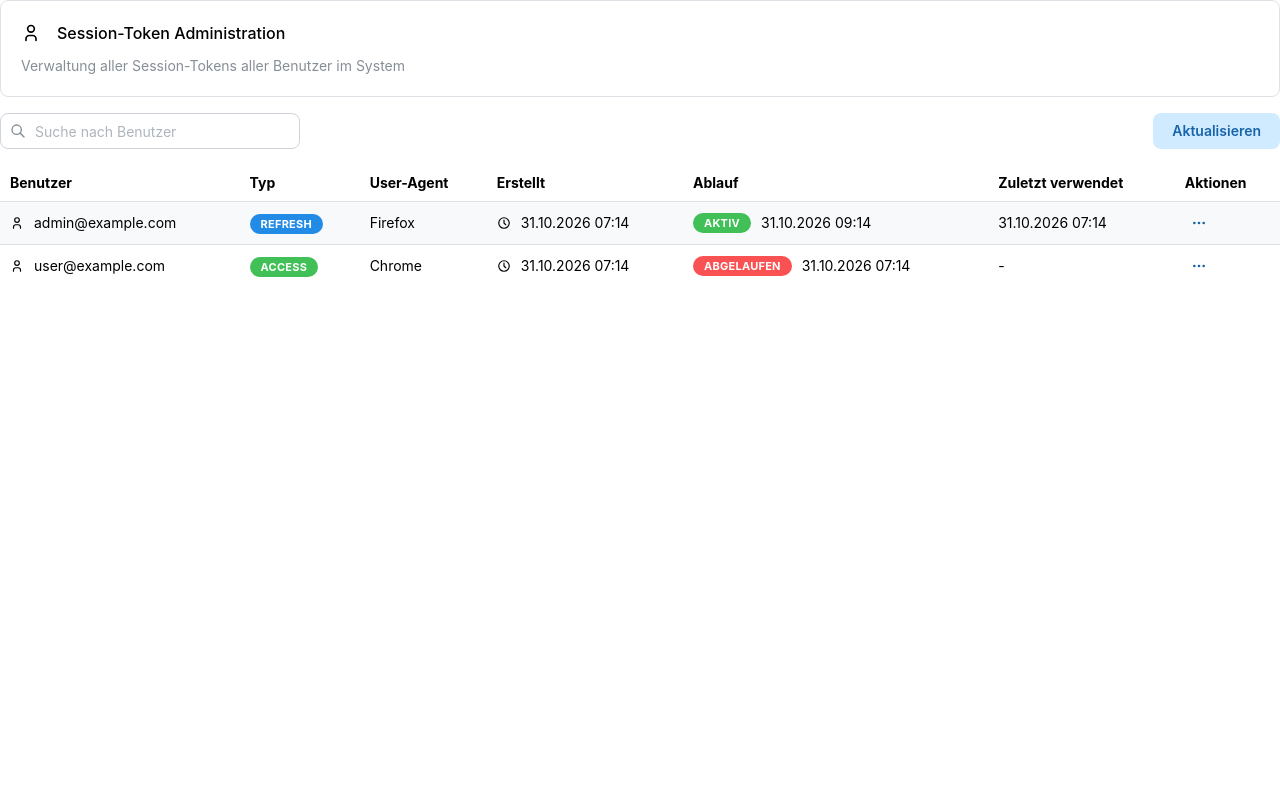
Test: SessionTokenAdminList › löscht ein Session-Token nach Bestätigung mit userId und tokenId
Expected: the text "admin@example.com" is shown, [34, 213, 176, 233]
Click the button without text in the row of "admin@example.com".
click(1199, 223)  # box [1185, 209, 1213, 237]
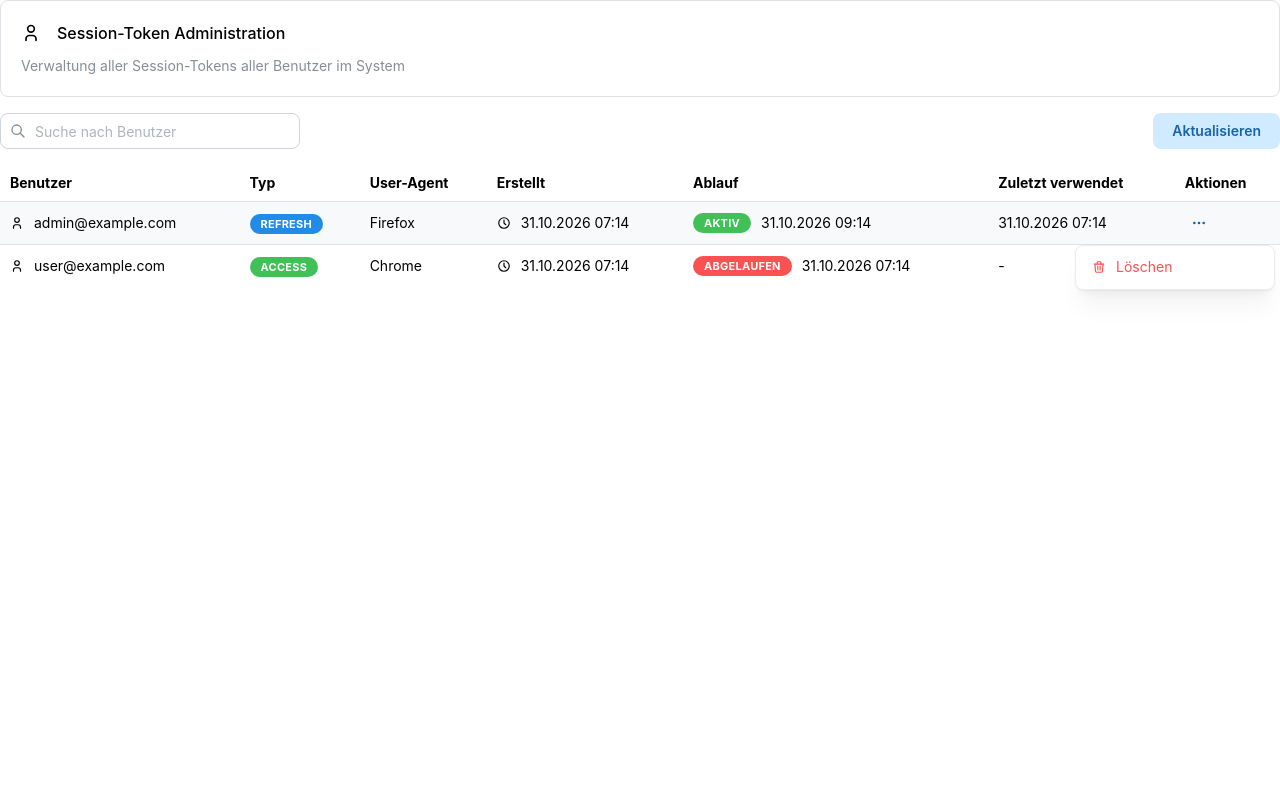
Click the menu item "Löschen".
click(1175, 267)  # box [1080, 250, 1270, 285]
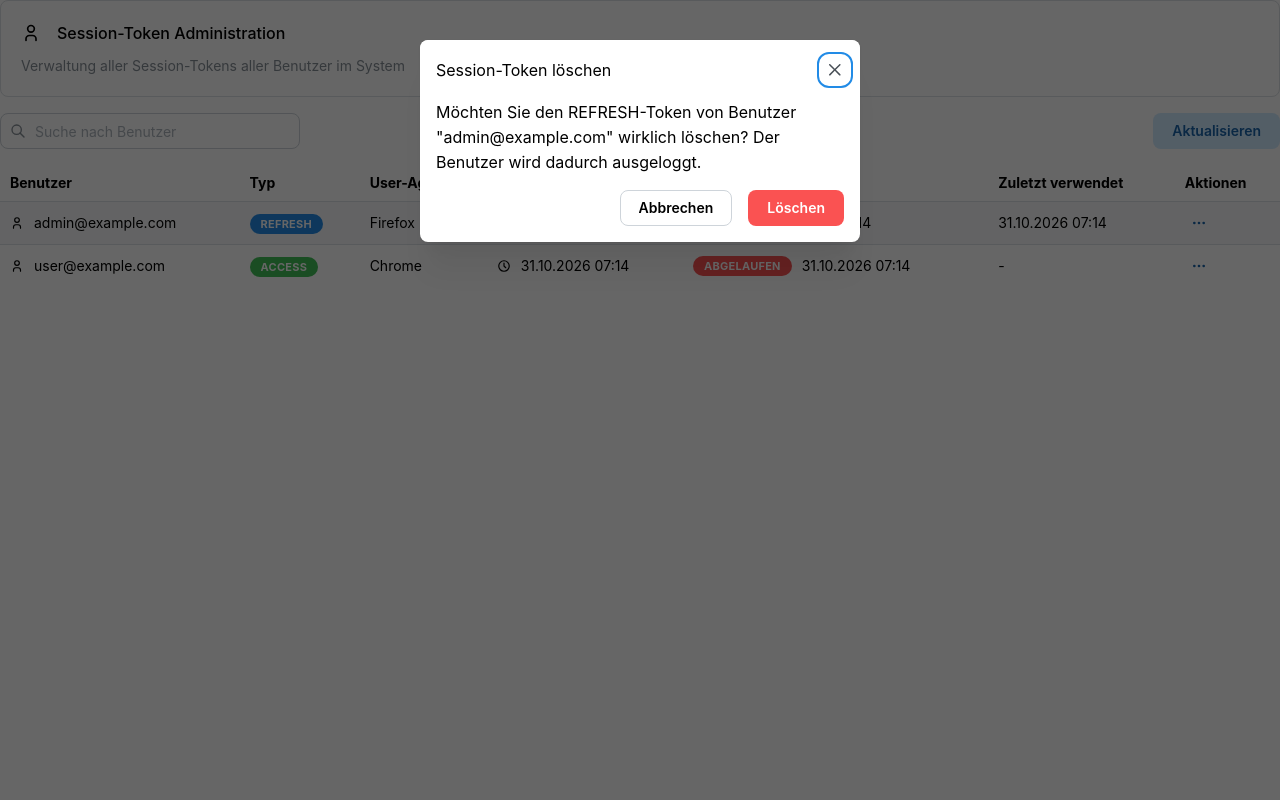
Click the button "Löschen".
click(796, 208)  # box [748, 190, 844, 226]
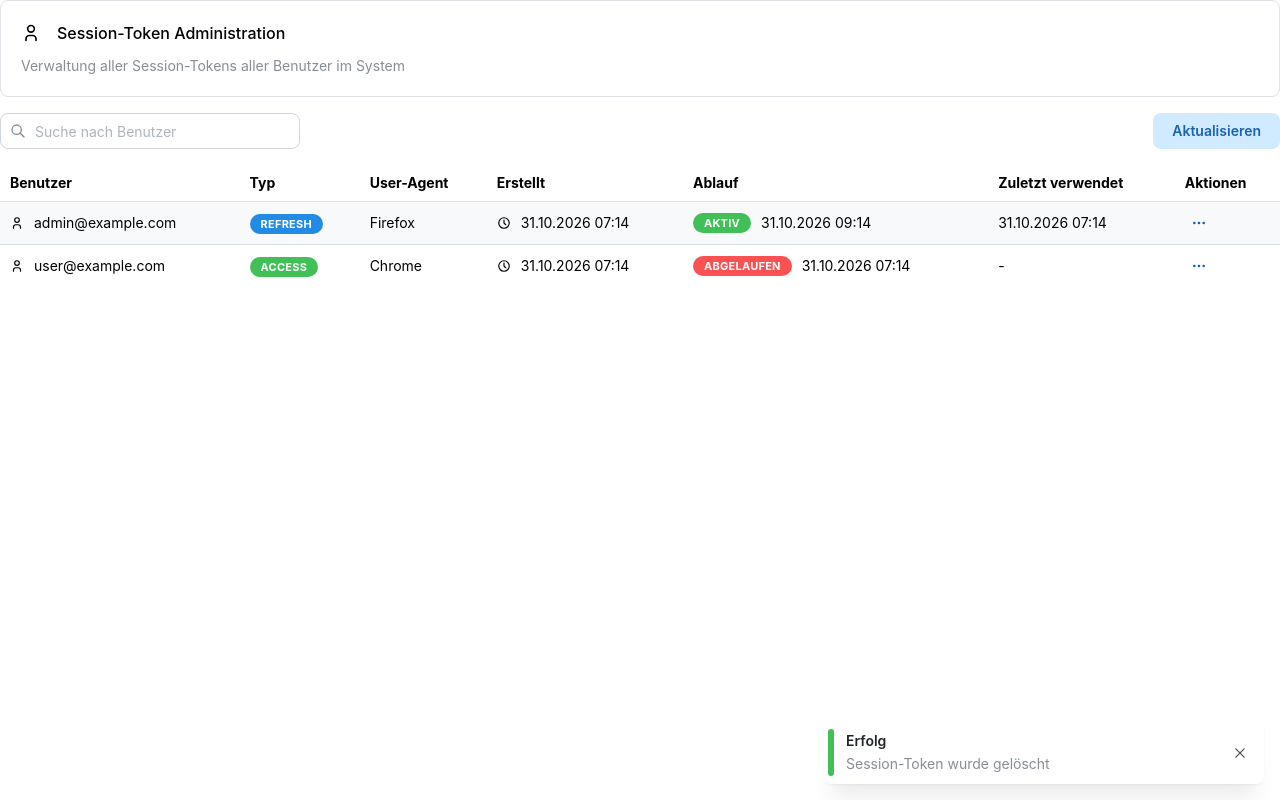
Now the text "Session-Token wurde gelöscht" is shown, box [846, 755, 1050, 772]
